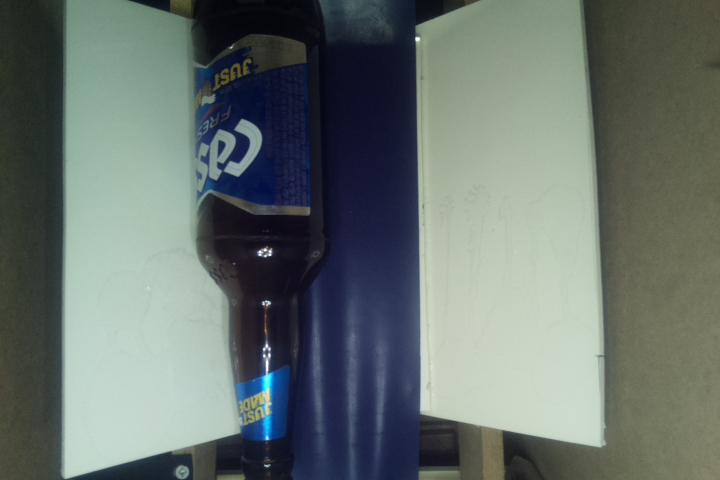makju: (190, 3, 329, 480)
